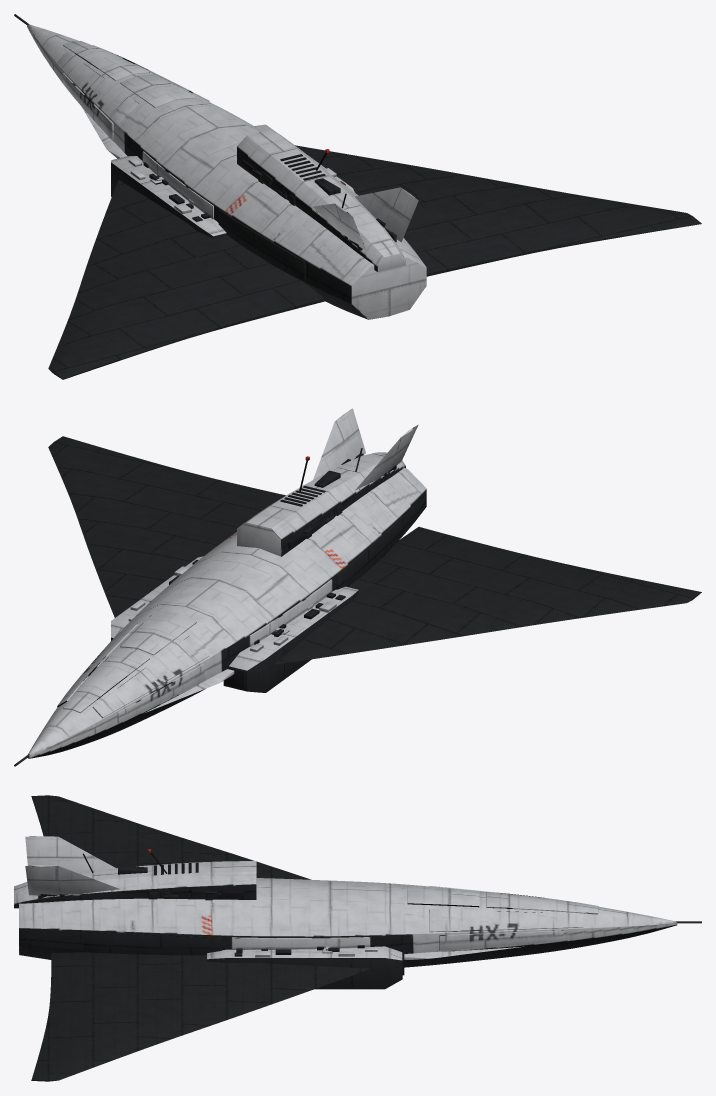
File: Fuselaje2.fbx
3 views of the same model, one above another, from view 1: azimuth 30°, elevation 25°; view 2: azimuth 150°, elevation 25°; view 3: azimuth 270°, elevation 25° (orthographic). The views are drawn at different scales.
Visible parts, largest first — view 1: Fuselaje2; view 2: Fuselaje2; view 3: Fuselaje2.
Boxes of the visible parts, x1,y1,x2,y2 form: Fuselaje2: (14, 14, 701, 379); Fuselaje2: (14, 408, 701, 766); Fuselaje2: (14, 795, 701, 1081).
Size of the model in its own units: 2720 by 514 by 2780.
